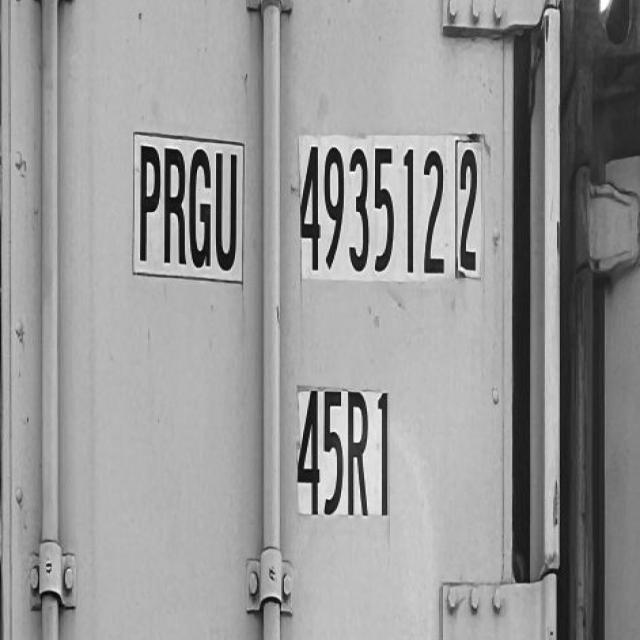dv: (456, 133, 503, 289)
owner: (99, 138, 253, 286)
serial: (294, 131, 451, 284)
size: (288, 381, 406, 521)
